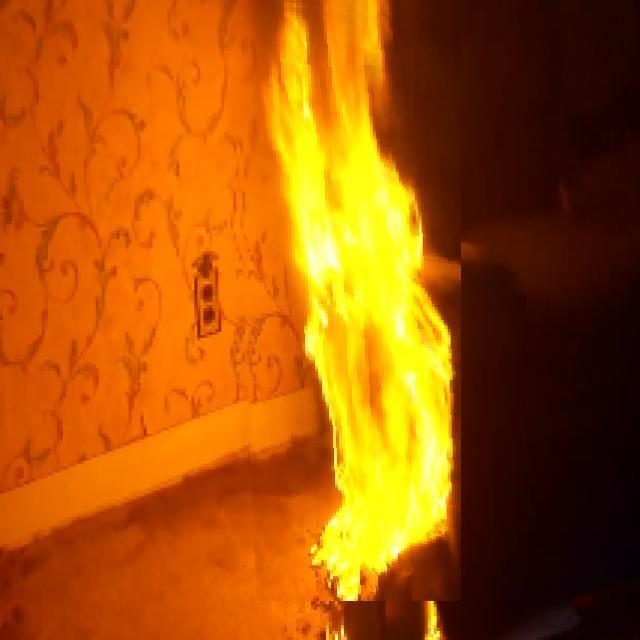fire: (262, 0, 453, 600)
